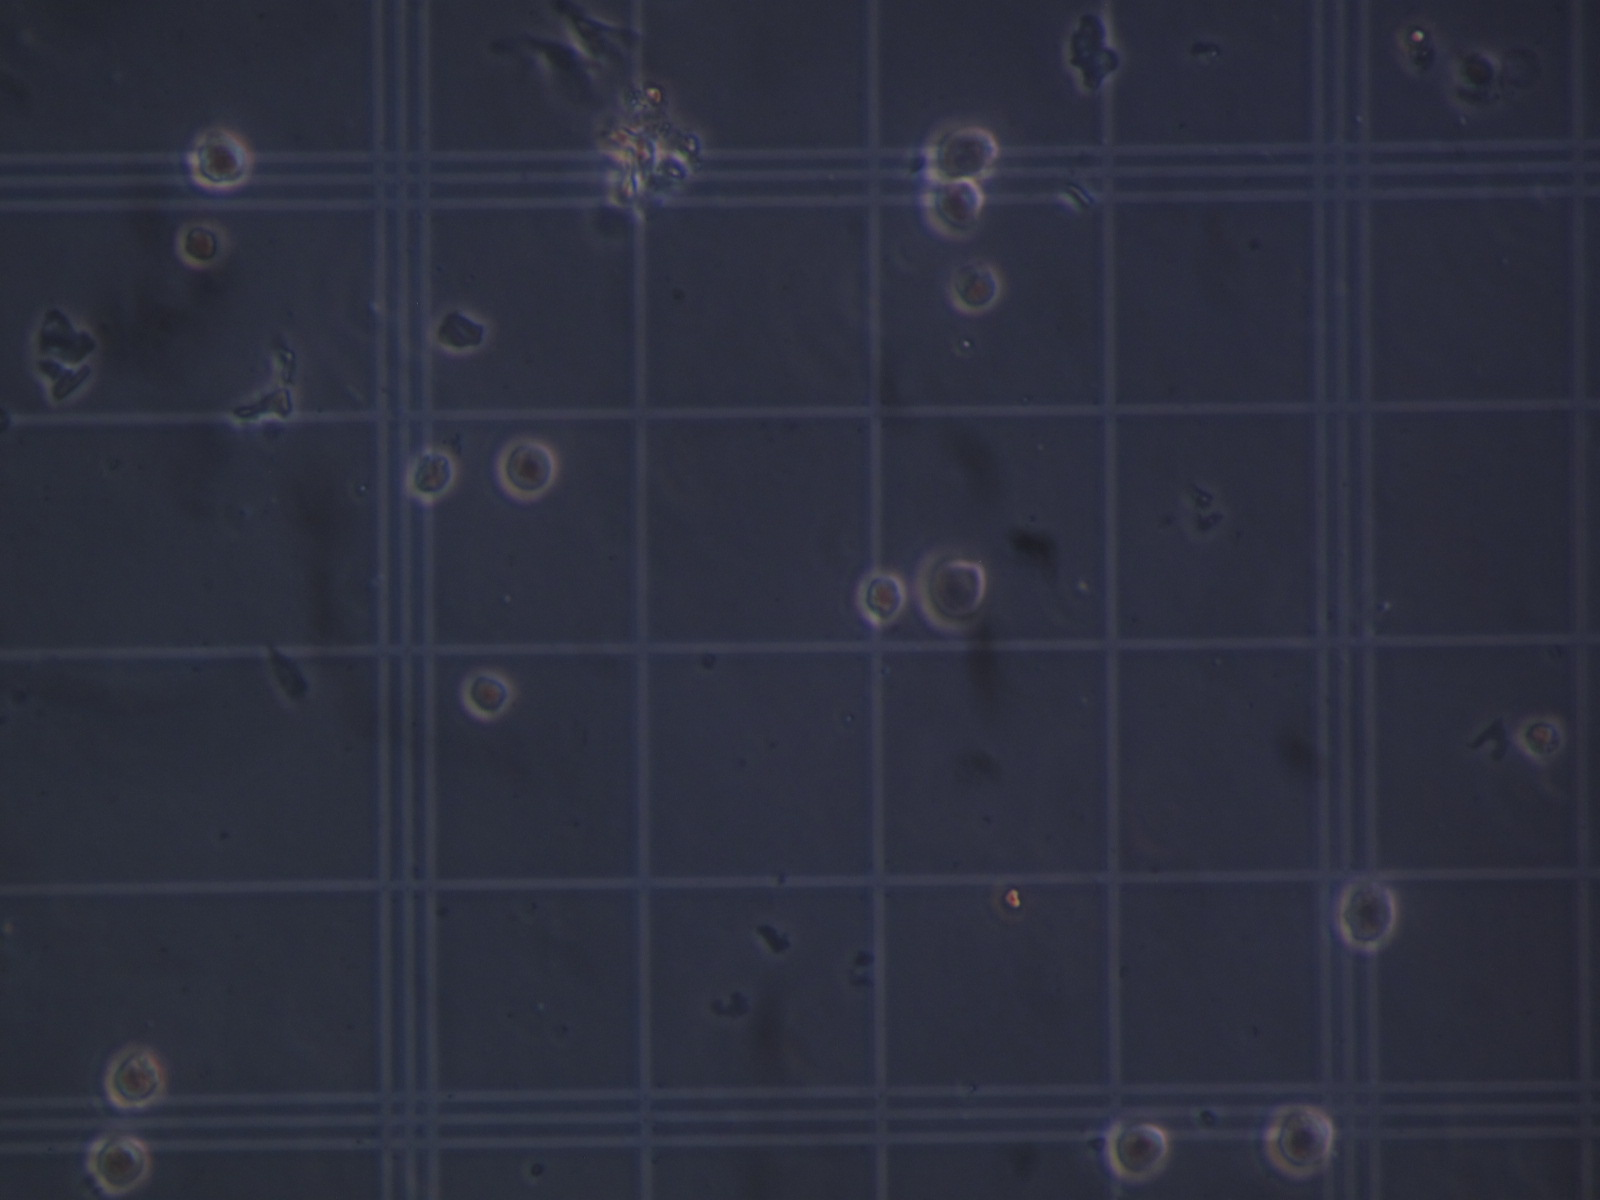hemo: (911, 543, 990, 632), (922, 111, 1002, 185), (1264, 1102, 1333, 1179), (1337, 876, 1398, 952), (495, 437, 558, 504), (922, 175, 985, 242), (1107, 1122, 1170, 1184), (189, 125, 252, 187), (87, 1136, 152, 1194), (108, 1044, 165, 1109), (460, 664, 520, 724), (404, 444, 459, 504), (176, 217, 231, 272), (855, 568, 906, 625), (952, 261, 1003, 313), (1518, 712, 1569, 761), (1453, 44, 1500, 88)
